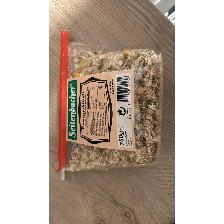Cerealien: (65, 44, 162, 174)
